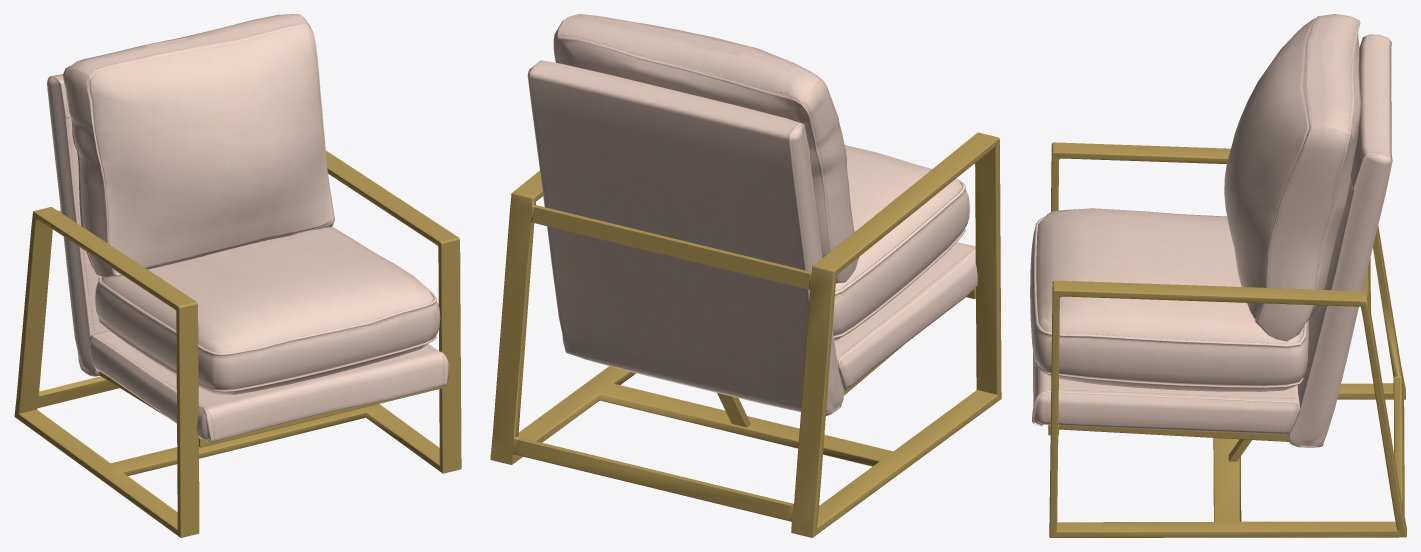
Rendered from B0746GYJJD.glb.
3 views of the same model, side by side, from view 1: azimuth 30°, elevation 25°; view 2: azimuth 150°, elevation 25°; view 3: azimuth 270°, elevation 25° (orthographic). The views are drawn at different scales.
Visible parts, largest first — view 1: RootNode; view 2: RootNode; view 3: RootNode.
Part boxes in pixels (<box>): RootNode: <box>14,14,461,537</box>; RootNode: <box>490,14,1001,537</box>; RootNode: <box>1030,14,1406,537</box>.
Size of the model in its own units: 0.7584 by 0.9557 by 0.813.
Materials: 1 (1 with a texture image).
